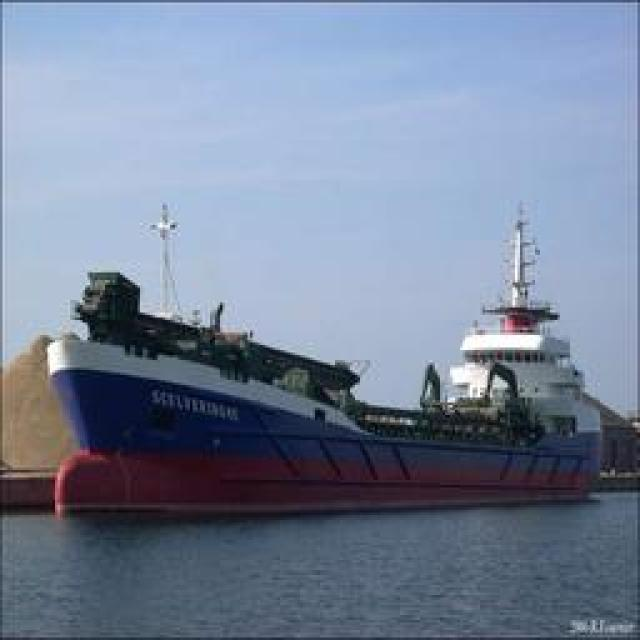ship2: (40, 199, 602, 518)
